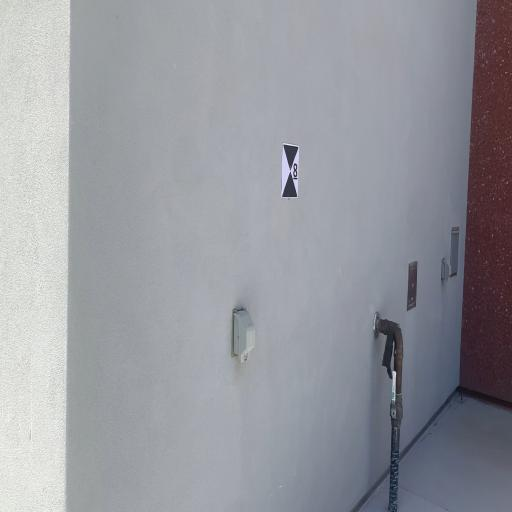target8: (281, 144, 299, 198)
